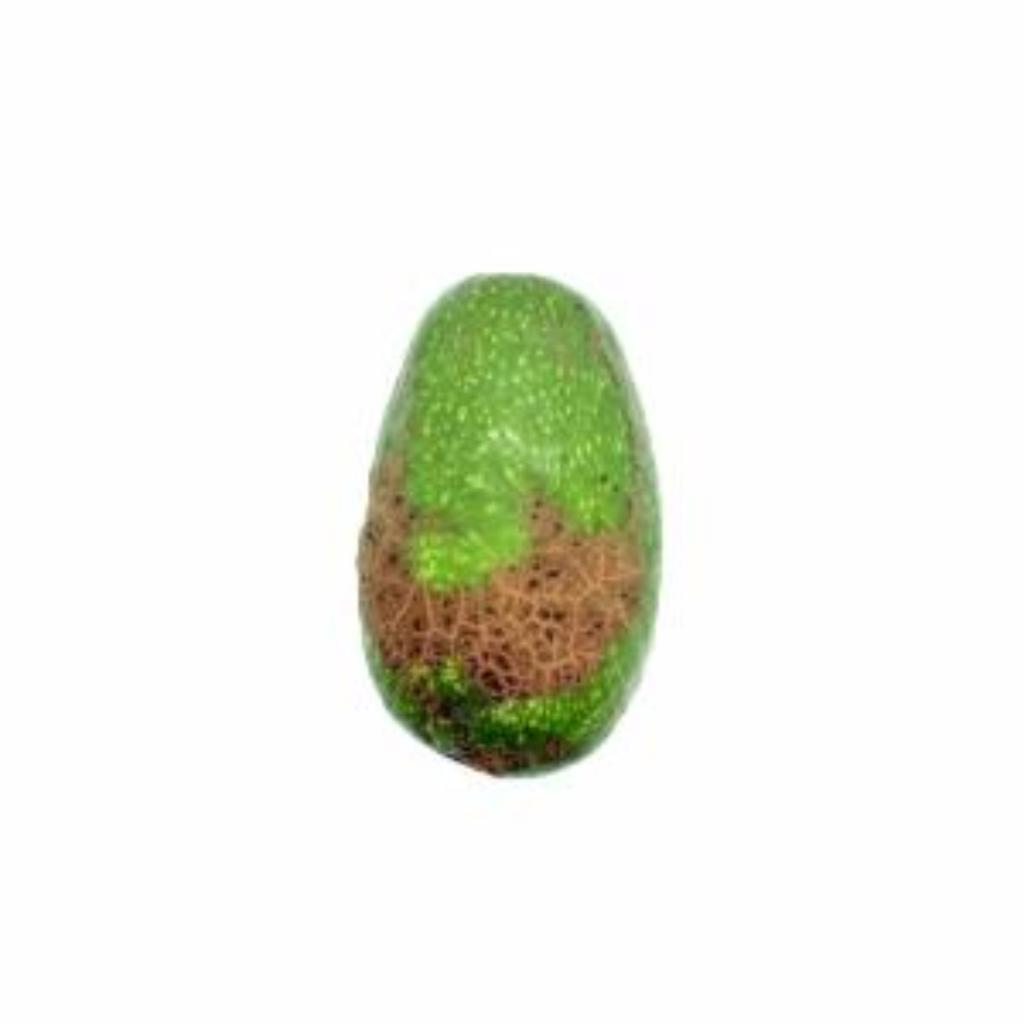cercospora_spot: (346, 258, 682, 784)
